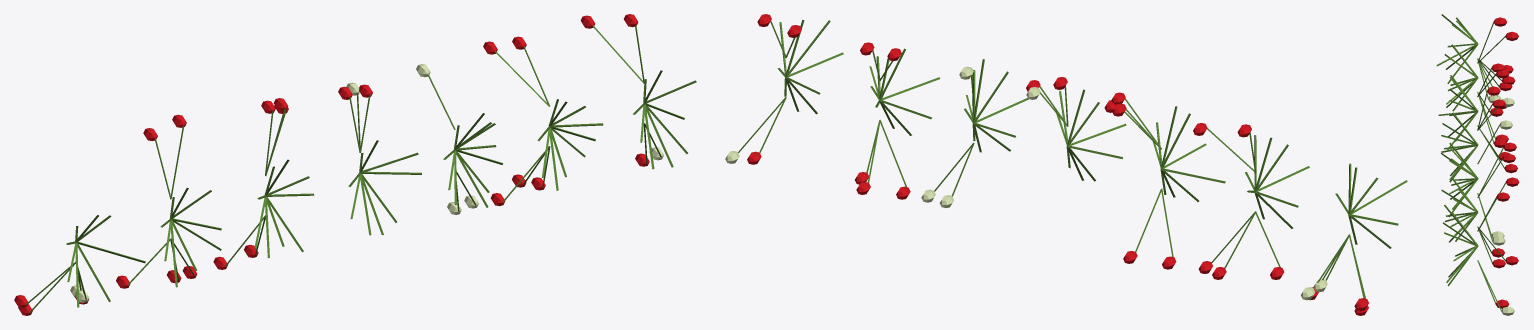
The model's file is r30c2_rest.obj.
3 renders of one model, left to right at view 1: azimuth 30°, elevation 25°; view 2: azimuth 150°, elevation 25°; view 3: azimuth 270°, elevation 25°, orthographic. The views are drawn at different scales.
Visible parts, largest first — view 1: r30c2_rest; view 2: r30c2_rest; view 3: r30c2_rest.
Boxes of the visible parts, box(x1,y1,x2,y2) form: r30c2_rest: box(14, 14, 696, 315); r30c2_rest: box(725, 14, 1407, 315); r30c2_rest: box(1436, 14, 1519, 315).
Bounding box in the file's own units: 1.71 × 0.4017 × 0.2612.
